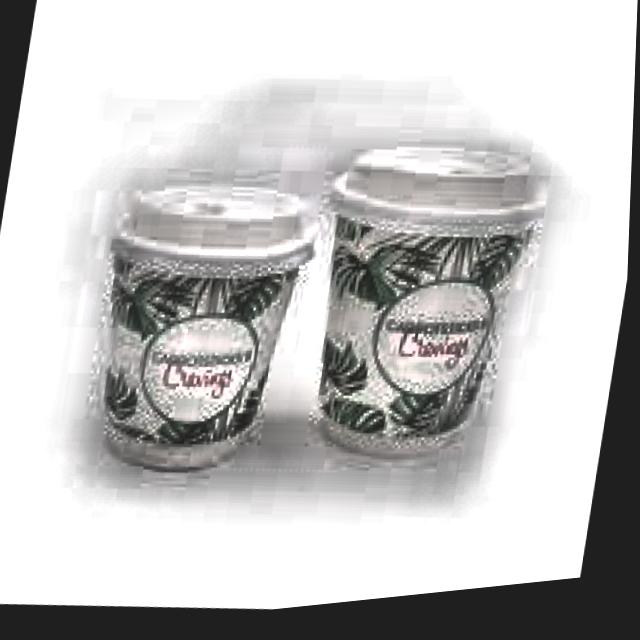Cup: (288, 172, 549, 490), (69, 209, 312, 502)
